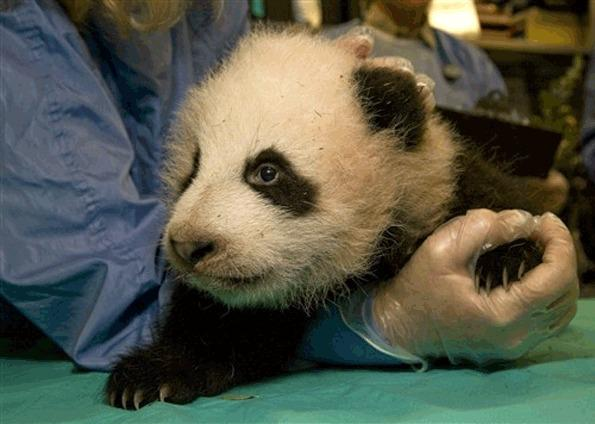panda: (105, 28, 566, 409), (477, 240, 542, 287)
